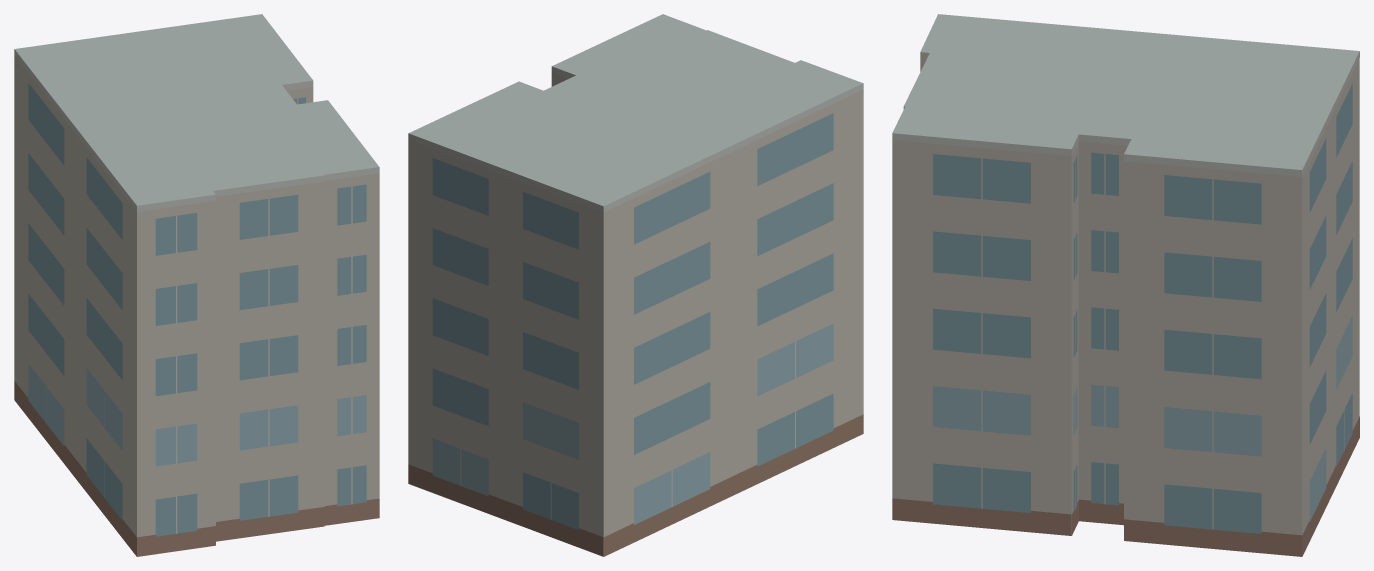
Rendered from survey-upis-33046093.glb.
3 renders of one model, left to right at view 1: azimuth 30°, elevation 25°; view 2: azimuth 150°, elevation 25°; view 3: azimuth 270°, elevation 25°, orthographic. The views are drawn at different scales.
Visible parts, largest first — view 1: survey-upis-33046093.tmp; view 2: survey-upis-33046093.tmp; view 3: survey-upis-33046093.tmp.
Boxes of the visible parts, bbox=[...] form: survey-upis-33046093.tmp: bbox=[14, 14, 379, 556]; survey-upis-33046093.tmp: bbox=[408, 14, 863, 556]; survey-upis-33046093.tmp: bbox=[892, 14, 1359, 556].
Size of the model in its own units: 11.96 by 13.8 by 15.13.
